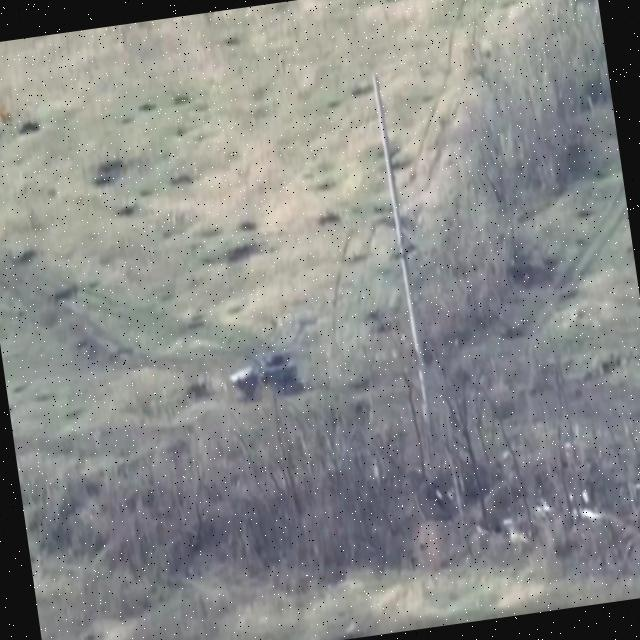AIFV: (225, 342, 303, 409)
